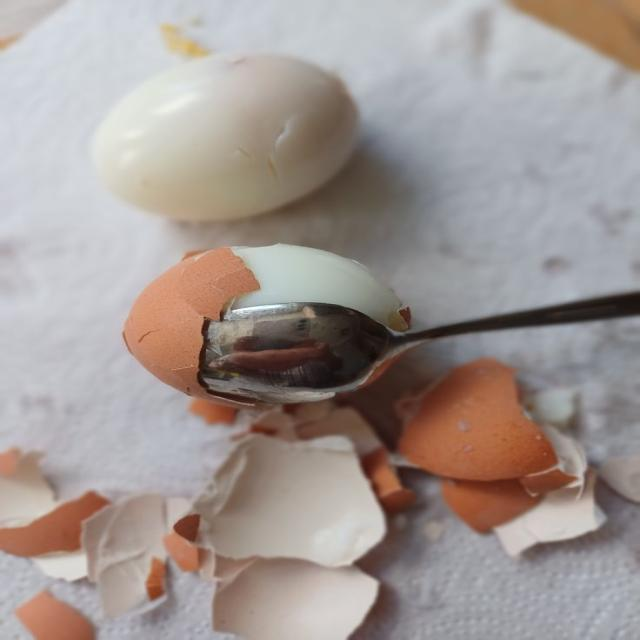egg boiled: (93, 54, 357, 220), (124, 244, 407, 397)
